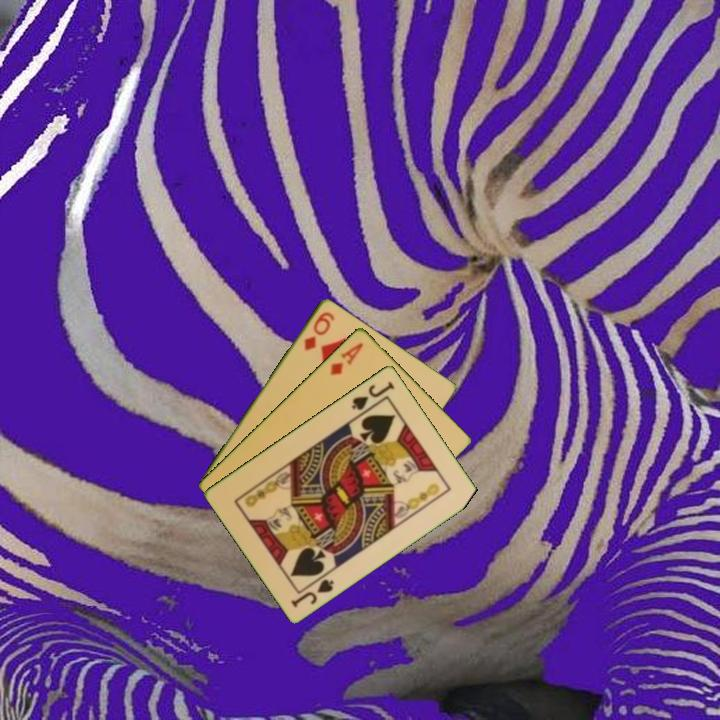6d: (300, 308, 337, 353)
Ad: (327, 338, 366, 378)
Js: (287, 569, 337, 610), (348, 377, 398, 413)
